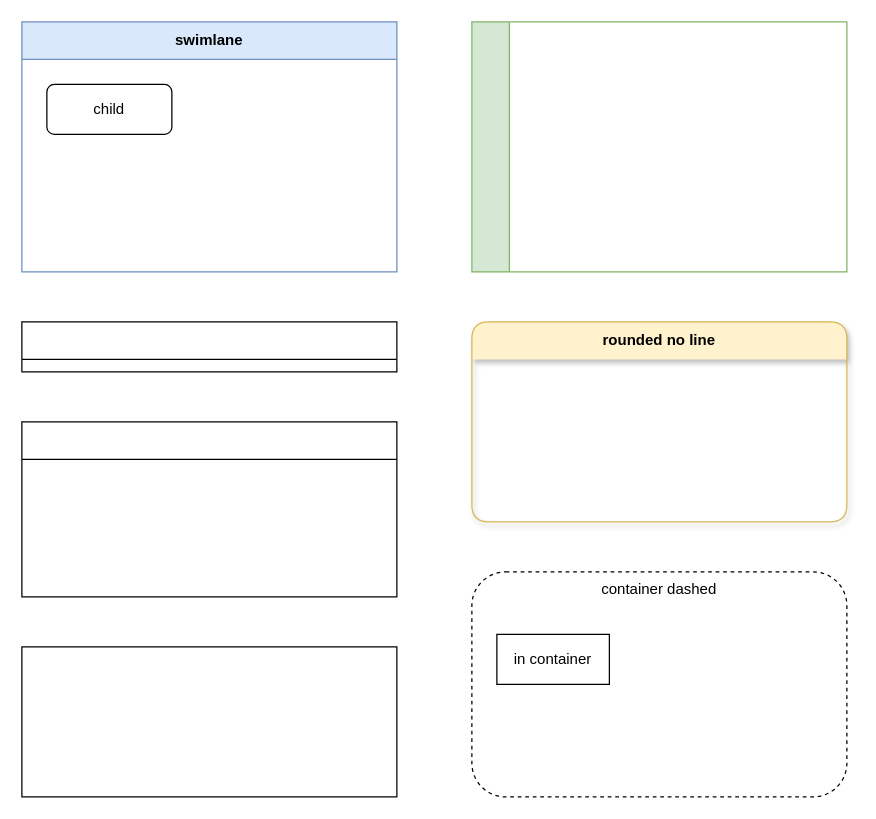
The diagram is 876 pixels wide and 819 high, and some of its shapes have lost their labels. The shapes that lost their labels are listed below. From the top down, each one's centre as x and y in pixels, then its label:
At pixel 659 146: "vertical lane".
At pixel 209 346: "collapsed".
At pixel 209 509: "stack".
